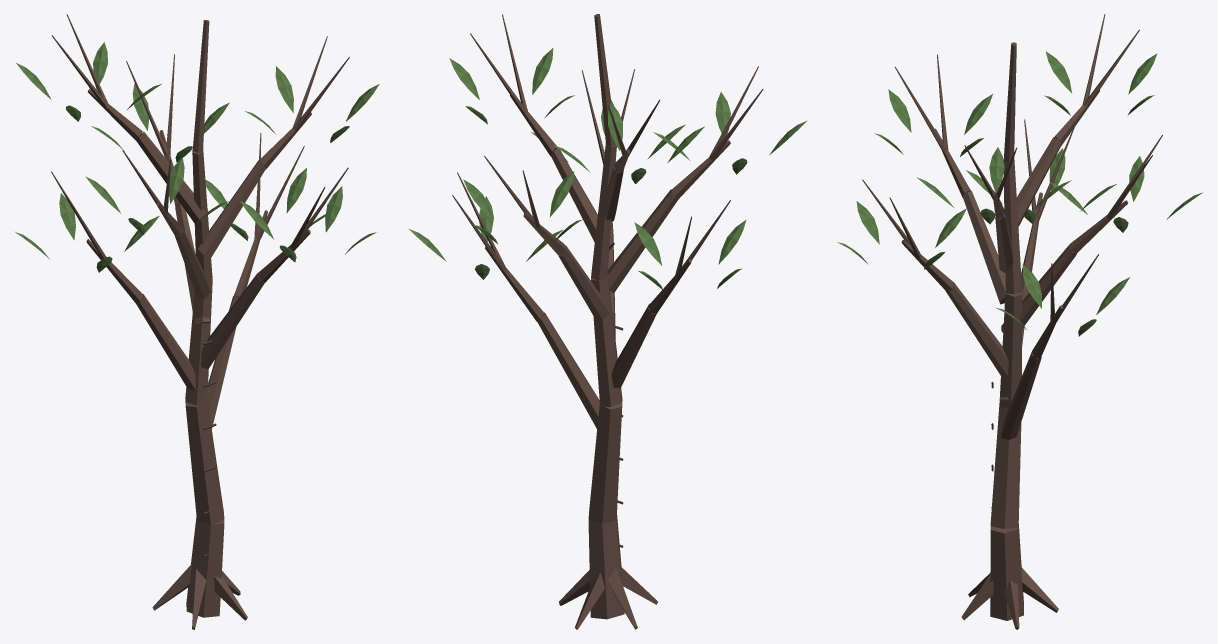
Rendered from peach_young.glb.
The picture shows the model from 3 angles, left to right: view 1: azimuth 30°, elevation 25°; view 2: azimuth 150°, elevation 25°; view 3: azimuth 270°, elevation 25°; orthographic projection. The views are drawn at different scales.
Visible parts, largest first — view 1: branches, leaves; view 2: branches, leaves; view 3: branches, leaves.
Part boxes in pixels (x1=…): branches: x1=51, y1=14, x2=349, y2=629; leaves: x1=14, y1=42, x2=379, y2=272; branches: x1=452, y1=14, x2=763, y2=629; leaves: x1=409, y1=48, x2=806, y2=290; branches: x1=862, y1=14, x2=1162, y2=629; leaves: x1=837, y1=51, x2=1202, y2=336.
Size of the model in its own units: 0.93 by 1.6 by 0.93.
